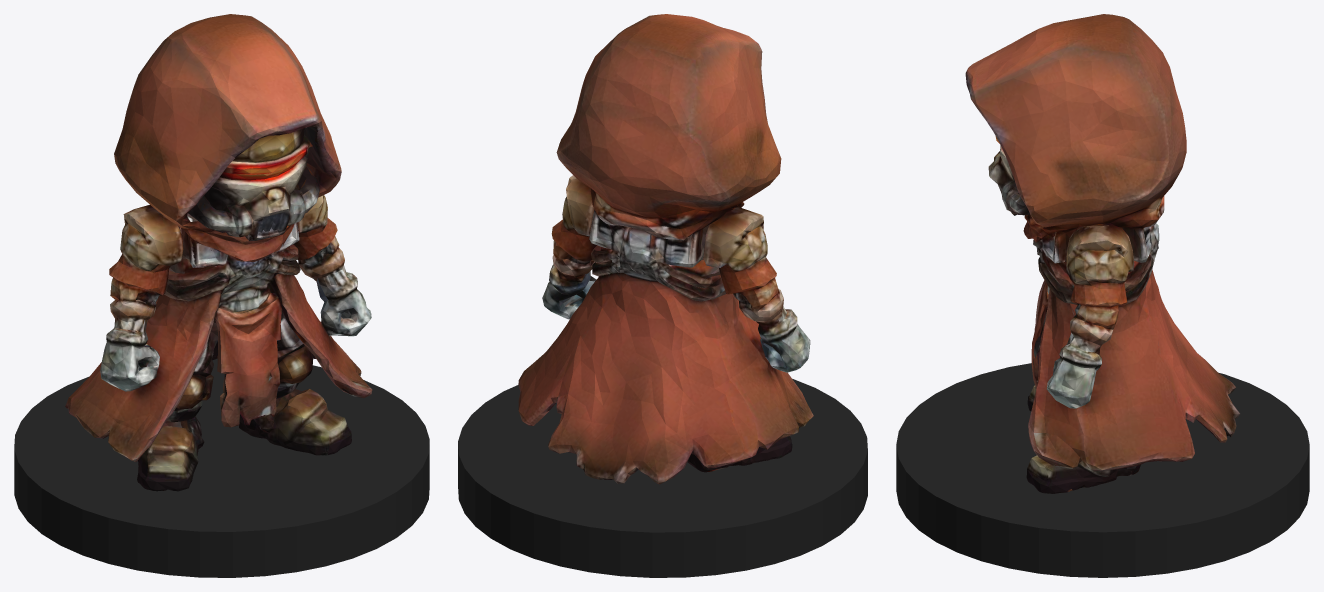
File: hc-skitarii-ranger-warrior.glb
3 views of the same model, side by side, from view 1: azimuth 30°, elevation 25°; view 2: azimuth 150°, elevation 25°; view 3: azimuth 270°, elevation 25° (orthographic).
Parts seen in each view (by area): view 1: figure, base; view 2: figure, base; view 3: figure, base.
Part boxes in pixels (box(x1,y1,x2,y2)): figure: box(65, 14, 372, 491); base: box(14, 358, 429, 577); figure: box(518, 14, 813, 484); base: box(458, 379, 867, 577); figure: box(965, 14, 1240, 493); base: box(896, 363, 1309, 577).
Size of the model in its own units: 0.9843 by 1.22 by 0.9843.
2 materials, 1 textured.
